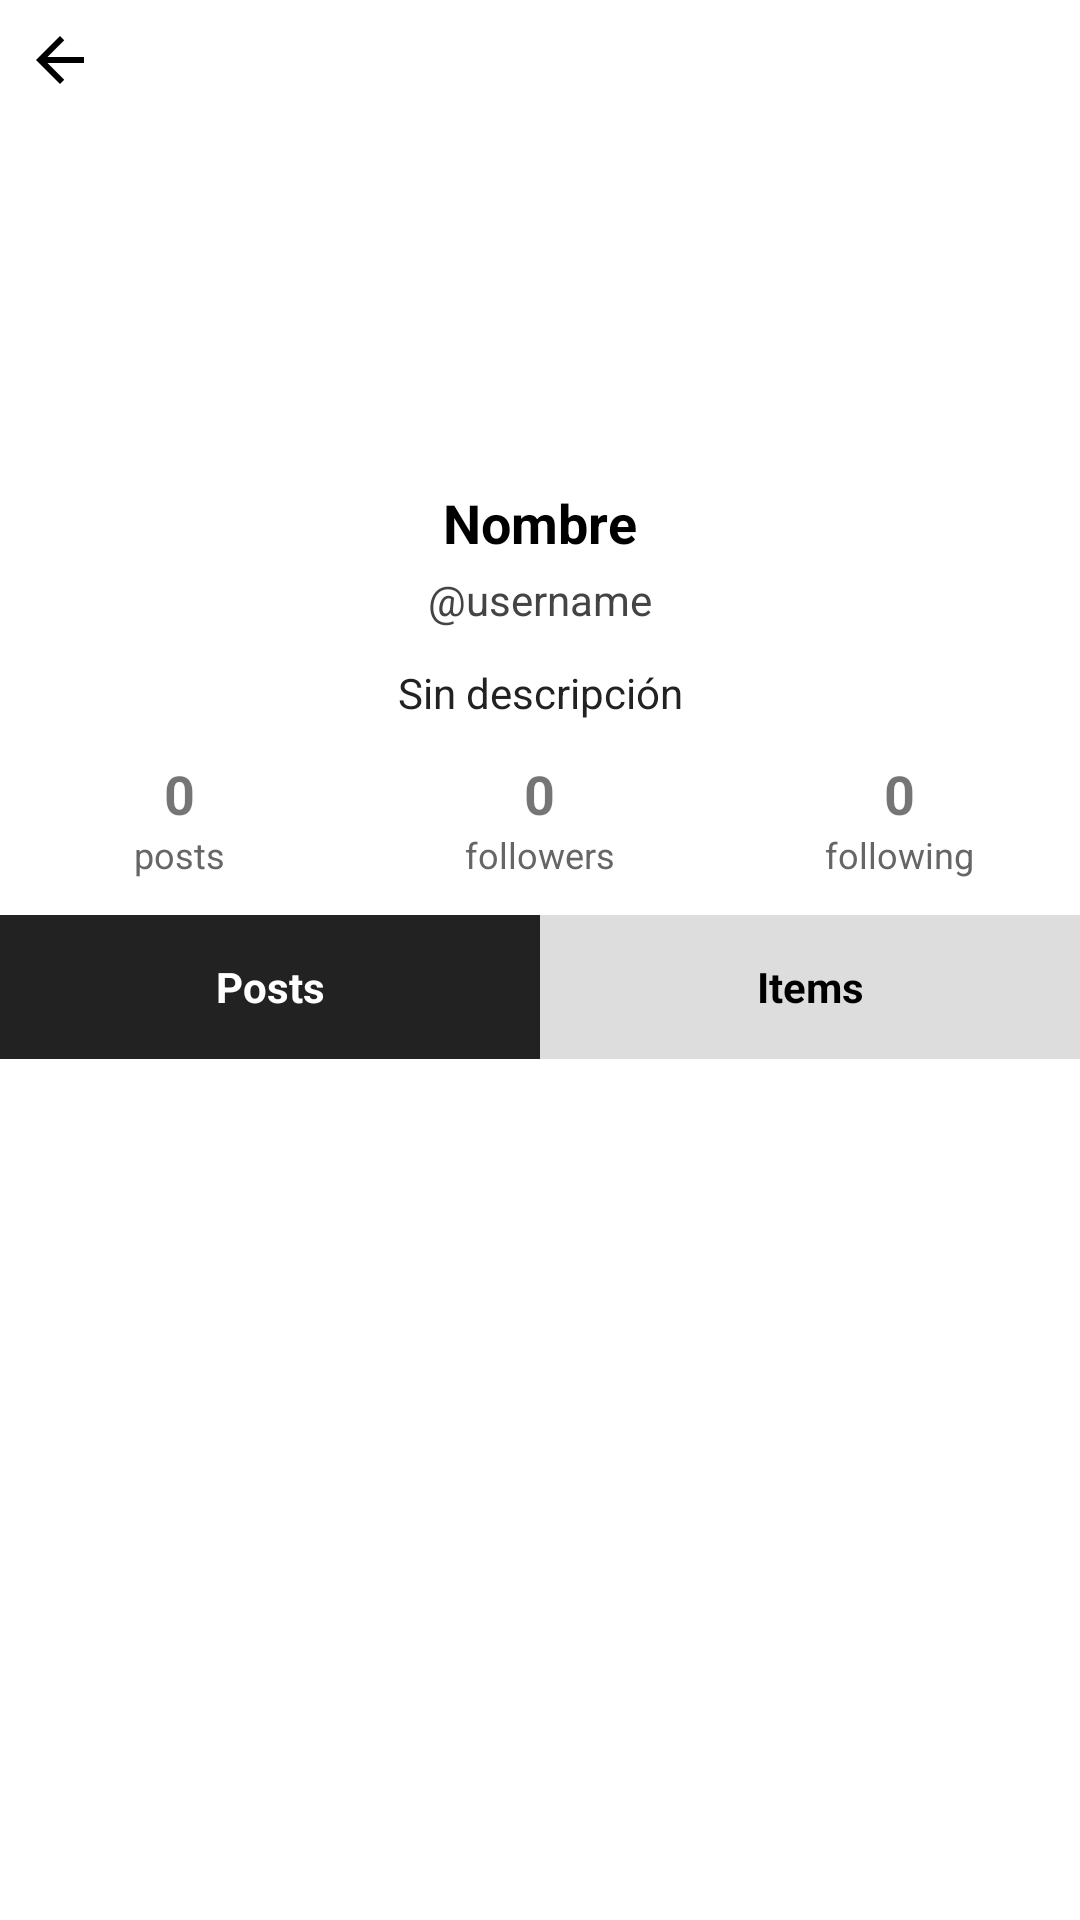

Icons on this 1080w x 1920h Android screen, each with the point to tap as point (x, y):
Atrás: point (60, 60)
